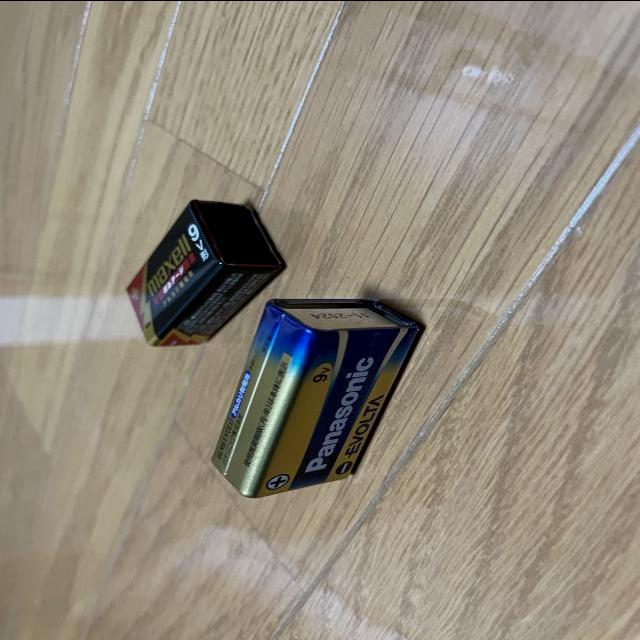9V: (211, 297, 425, 498), (125, 197, 288, 347)
